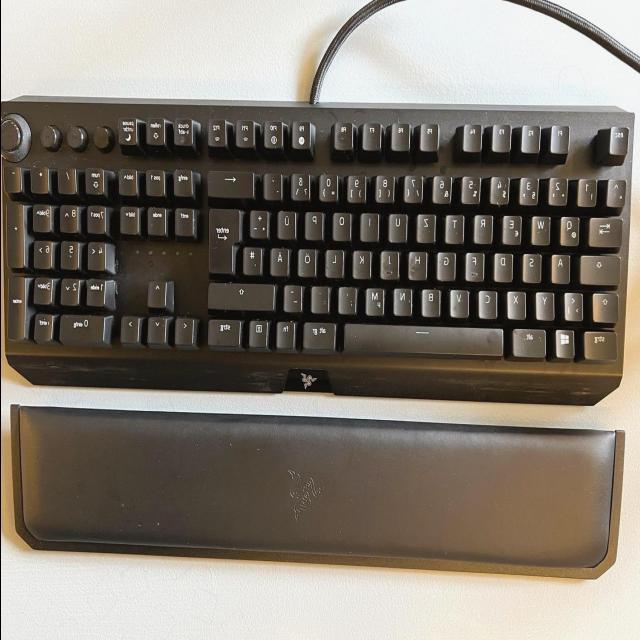0: (319, 173, 340, 205)
1: (577, 179, 599, 209)
2: (548, 177, 570, 207)
3: (518, 177, 539, 207)
4: (490, 177, 511, 207)
5: (460, 174, 480, 206)
6: (433, 175, 453, 207)
7: (403, 175, 425, 205)
8: (373, 175, 395, 205)
9: (346, 175, 368, 205)
a: (550, 256, 570, 286)
accent: (264, 173, 284, 203)
ae: (270, 248, 290, 278)
alt-left: (511, 329, 547, 359)
altgr-right: (302, 322, 338, 352)
b: (422, 288, 442, 320)
c: (477, 291, 497, 321)
caret: (606, 179, 628, 209)
comma: (338, 288, 358, 317)
d: (494, 253, 514, 285)
del: (207, 171, 257, 201)
e: (502, 215, 524, 247)
enter: (209, 207, 242, 277)
f: (464, 252, 484, 284)
g: (437, 251, 457, 283)
h: (407, 251, 427, 283)
hash: (243, 247, 263, 277)
i: (360, 212, 380, 244)
j: (380, 251, 400, 283)
k: (353, 250, 373, 282)
keyboard: (0, 81, 638, 418)
l: (324, 250, 344, 280)
less: (565, 293, 585, 325)
m: (366, 288, 386, 318)
minus: (283, 285, 303, 315)
n: (393, 288, 413, 318)
o: (333, 211, 353, 243)
oe: (298, 249, 318, 279)
p: (304, 211, 324, 243)
plus: (250, 210, 270, 242)
point: (309, 286, 329, 316)
q: (561, 216, 581, 249)
r: (472, 214, 492, 246)
s: (522, 254, 542, 284)
shift-left: (590, 292, 618, 324)
shift-lock: (577, 256, 622, 286)
shift-right: (207, 282, 278, 314)
space: (342, 326, 507, 358)
ss: (290, 173, 310, 203)
strg-left: (581, 331, 619, 363)
strg-right: (205, 320, 241, 350)
t: (446, 214, 466, 246)
tab: (585, 217, 624, 250)
u: (388, 214, 408, 246)
ue: (276, 210, 296, 242)
v: (450, 290, 470, 320)
w: (529, 215, 551, 247)
x: (507, 292, 527, 322)
y: (536, 291, 556, 323)
z: (416, 213, 437, 245)
